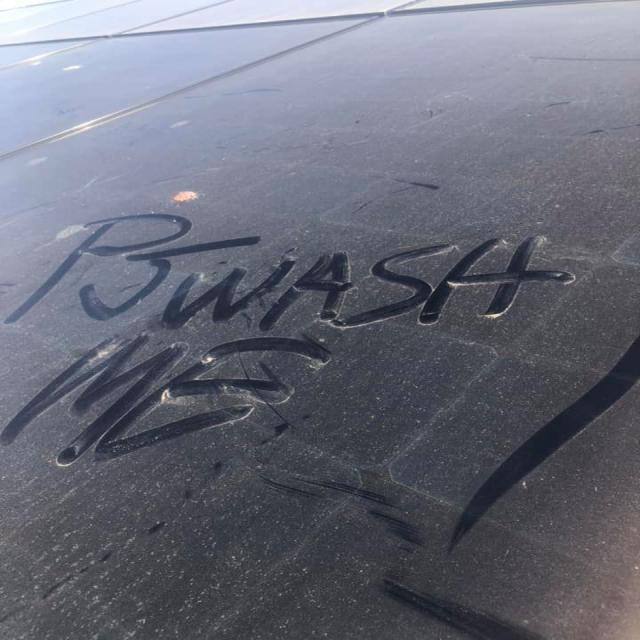faulty: (1, 48, 639, 640)
